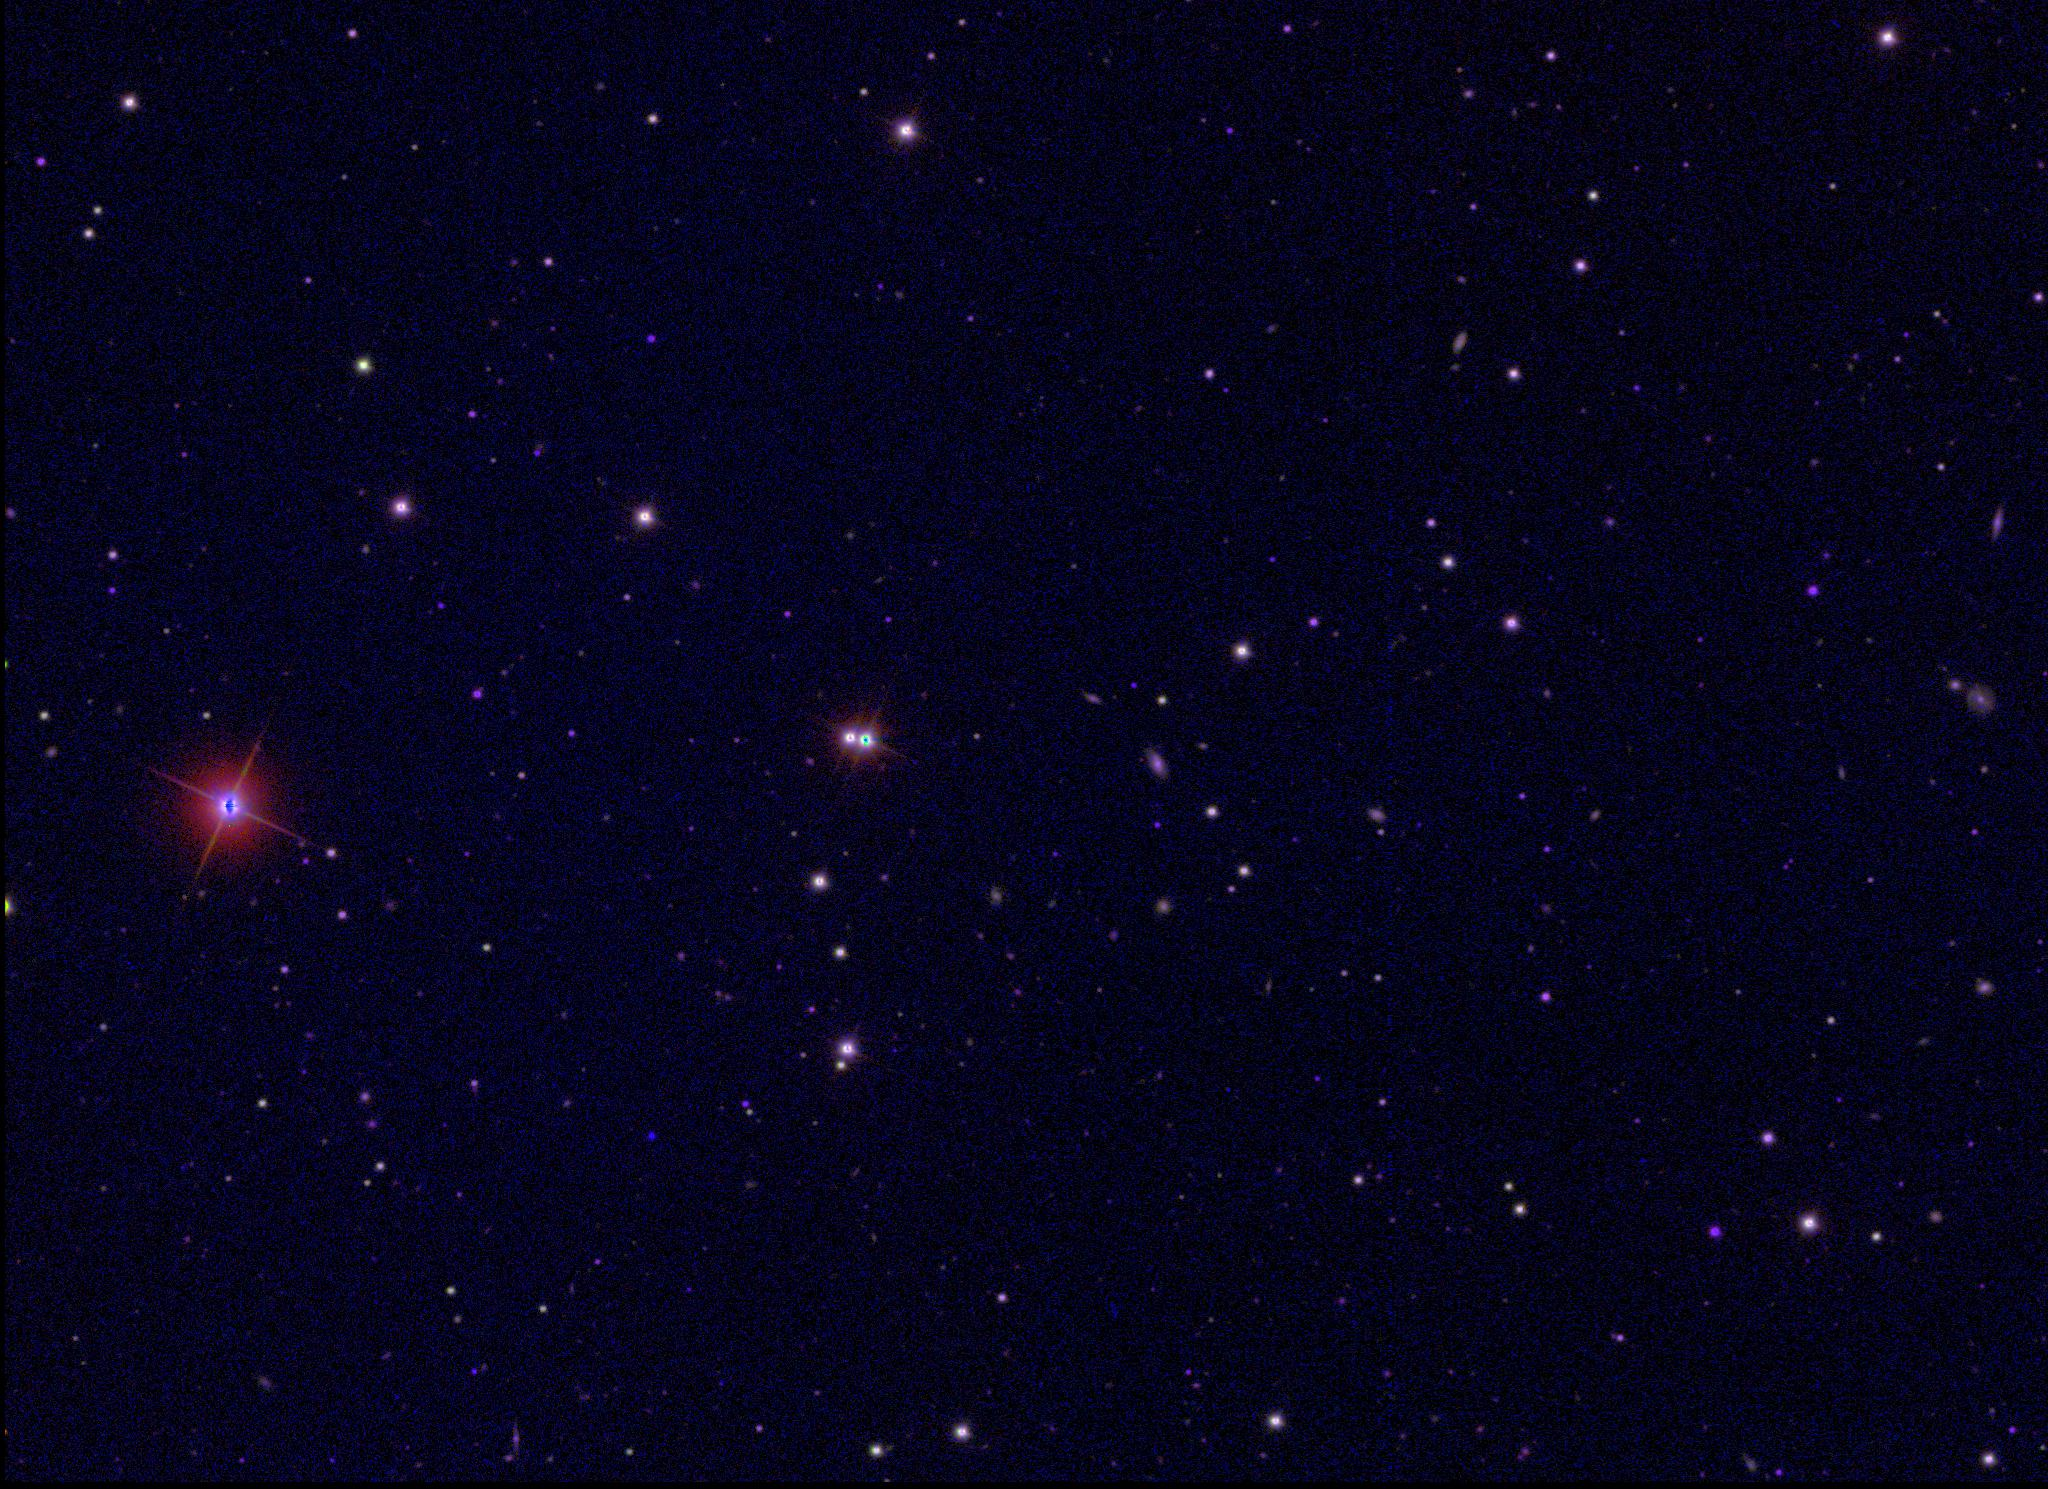L: (646, 1129, 658, 1144)
